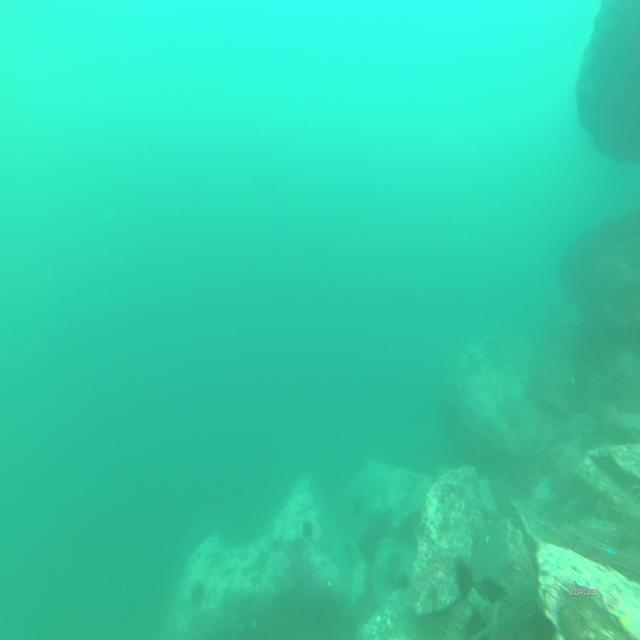echinus: (480, 574, 508, 606), (454, 557, 472, 596), (189, 578, 206, 608), (394, 570, 411, 593), (300, 516, 314, 540)
